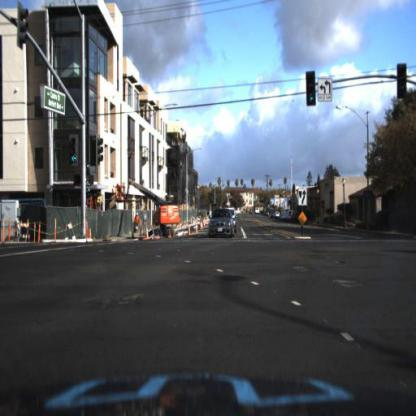car: (210, 207, 237, 238), (234, 204, 239, 233), (253, 205, 261, 220), (274, 207, 282, 222)
pedestrian: (116, 178, 126, 199), (135, 211, 142, 241), (135, 211, 143, 237)
trafficLight: (304, 70, 317, 109)
trafficLight-GreenLeft: (65, 132, 81, 182), (307, 71, 316, 107), (71, 138, 78, 167)
